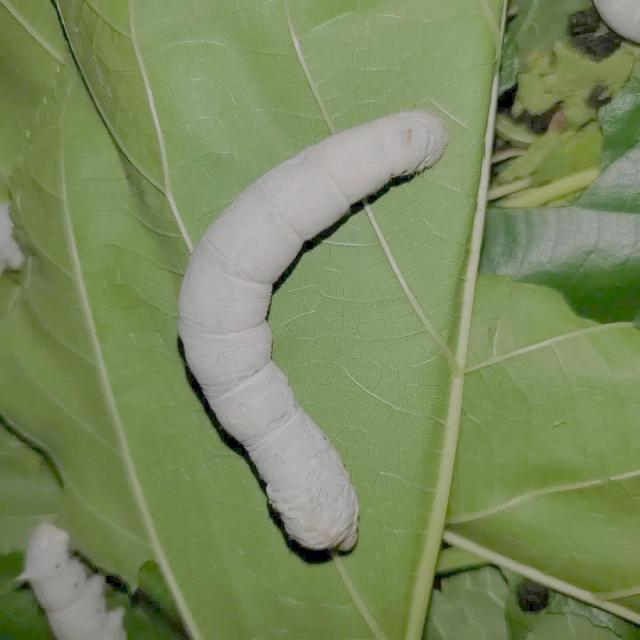Healthy: (161, 93, 456, 571)
